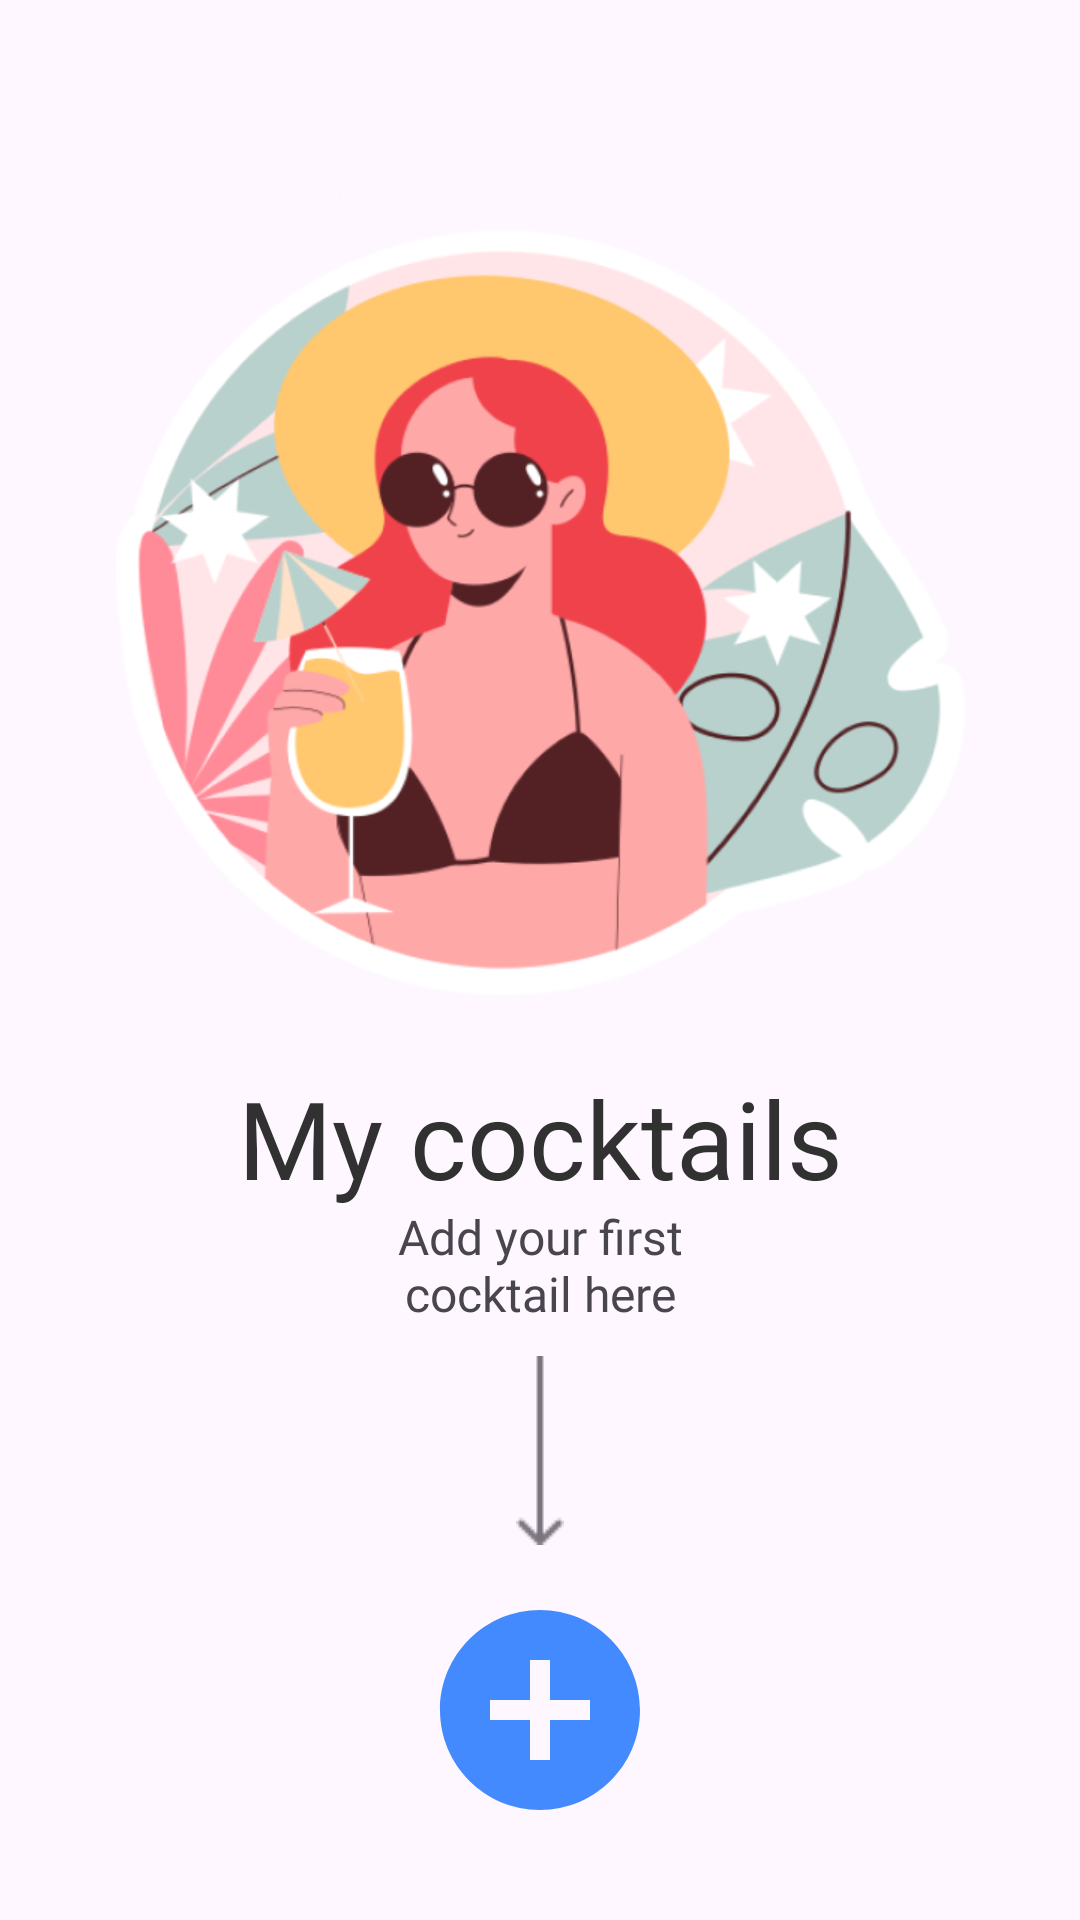

Point at icon controls on the screen. Image size 1080*1920, points as [x,y].
arrow: [540,1450]
fab add: [540,1710]
